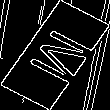M_SE: (15, 22, 95, 88)
